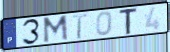0: (95, 10, 114, 38)
3: (20, 18, 43, 46)
4: (144, 5, 163, 32)
M: (42, 14, 70, 45)
T: (118, 7, 139, 36), (71, 13, 89, 41)
